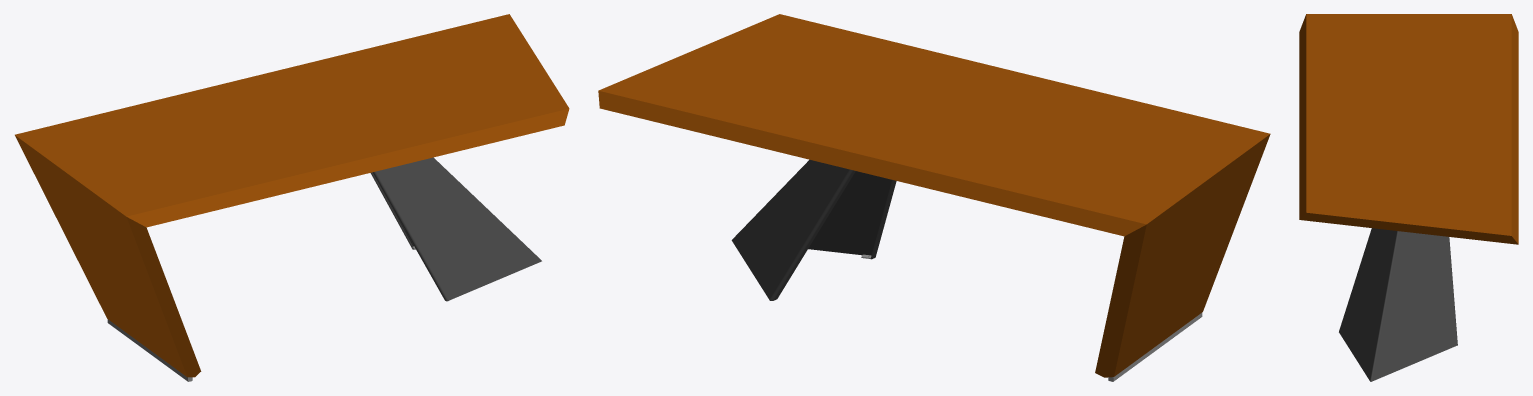
The model's file is стол компановка75.obj.
3 renders of one model, left to right at view 1: azimuth 30°, elevation 25°; view 2: azimuth 150°, elevation 25°; view 3: azimuth 270°, elevation 25°, orthographic. The views are drawn at different scales.
Size of the model in its own units: 2.15 by 0.75 by 0.9.
